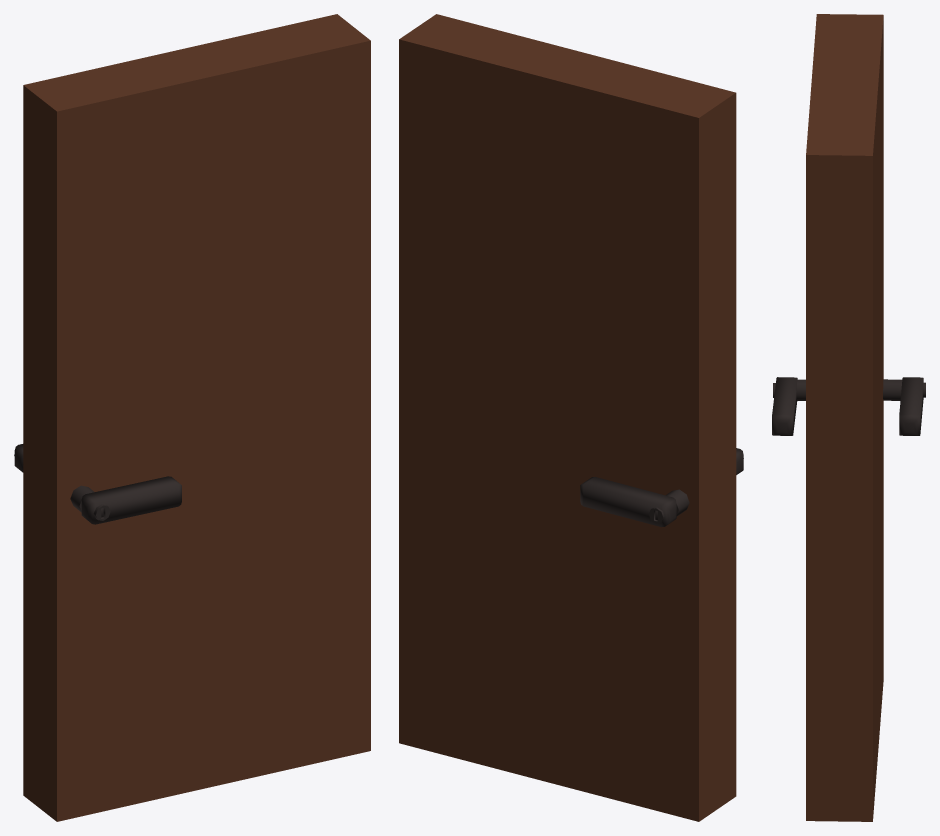
Rendered from puerta blender.fbx.
3 renders of one model, left to right at view 1: azimuth 30°, elevation 25°; view 2: azimuth 150°, elevation 25°; view 3: azimuth 270°, elevation 25°, orthographic. The views are drawn at different scales.
Visible parts, largest first — view 1: puerta, Cylinder; view 2: puerta, Cylinder; view 3: puerta, Cylinder.
Part boxes in pixels (bbox=[...]): puerta: bbox=[23, 14, 370, 821]; Cylinder: bbox=[14, 444, 181, 524]; puerta: bbox=[399, 14, 736, 821]; Cylinder: bbox=[580, 448, 743, 527]; puerta: bbox=[806, 14, 883, 821]; Cylinder: bbox=[772, 377, 925, 435].
Size of the model in its own units: 101 by 220 by 46.01.
